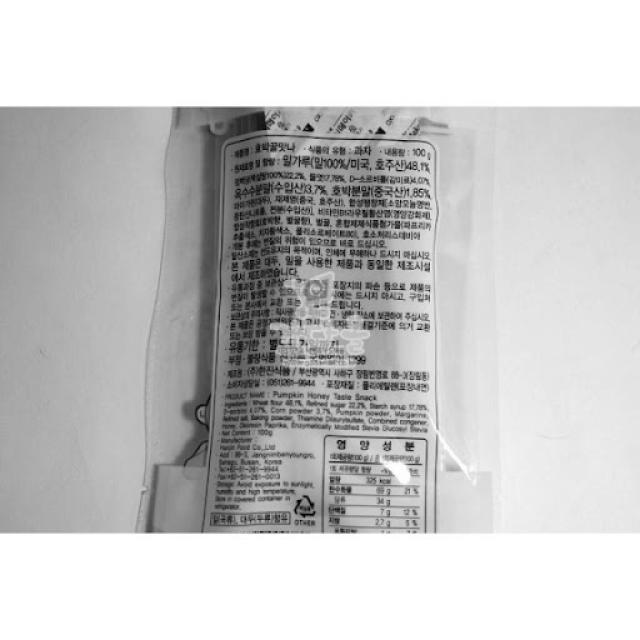Nutrition Label: (313, 429, 434, 537)
